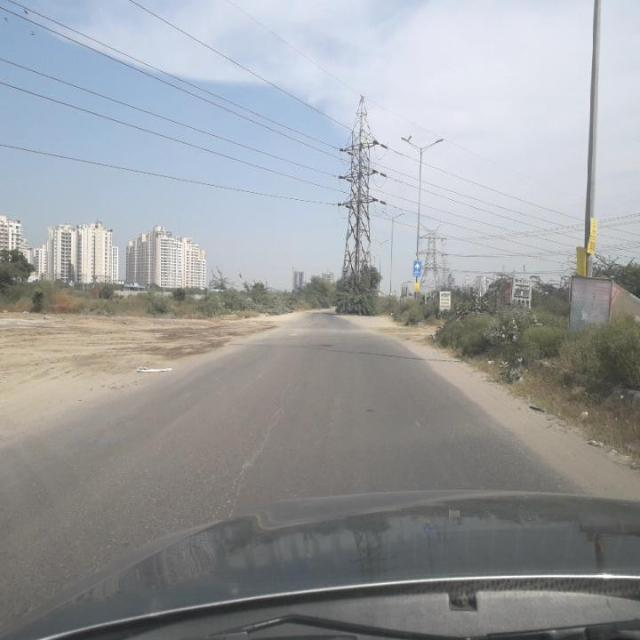D00: (217, 353, 301, 515)
